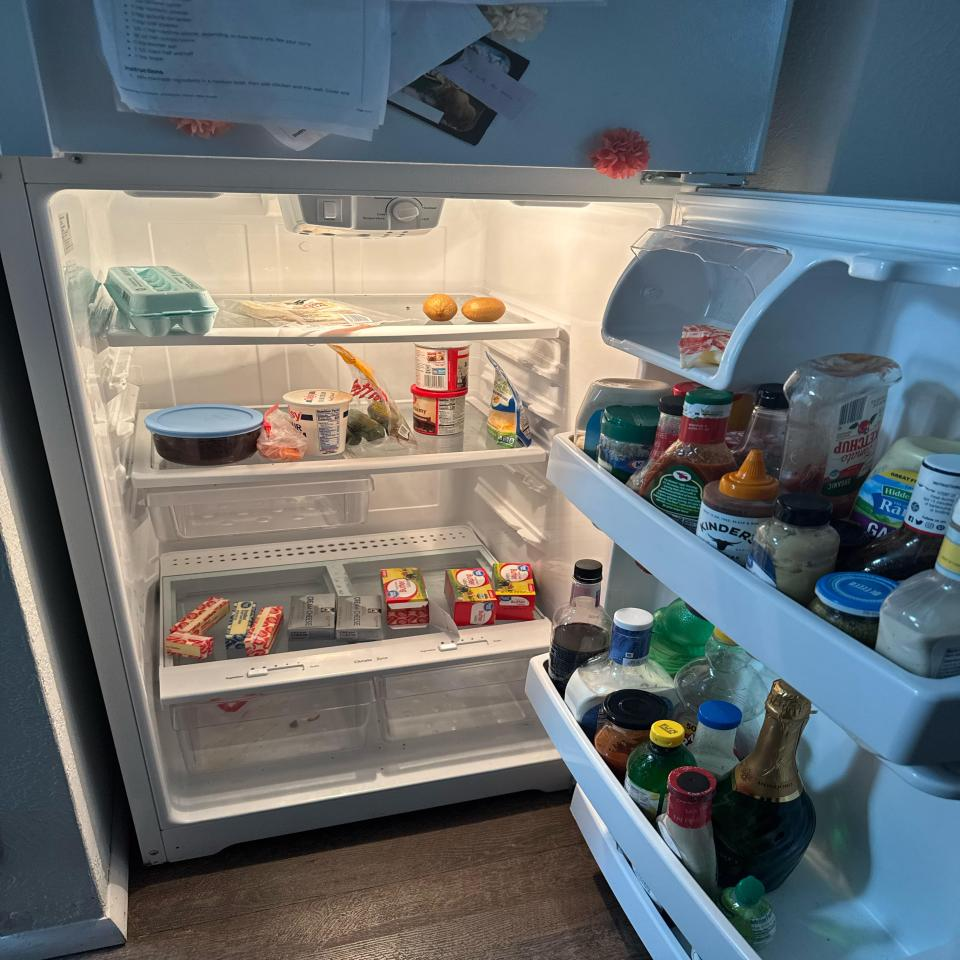Huevos: (103, 264, 220, 338)
Mantequilla: (379, 567, 430, 629), (444, 568, 497, 626), (491, 563, 537, 621), (678, 324, 735, 370), (169, 596, 231, 636), (243, 606, 285, 655), (225, 601, 256, 650), (165, 631, 214, 660)
Pepino: (346, 401, 400, 446)
Queso: (218, 298, 423, 333)
Yogur: (282, 389, 353, 457)
Zanahoria: (256, 438, 308, 461)
ketchup: (779, 353, 904, 517)
